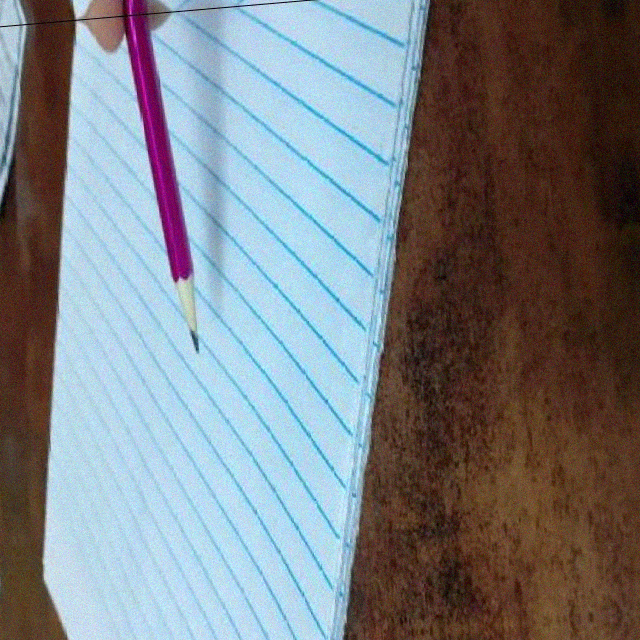pencil: (167, 276, 207, 357)
